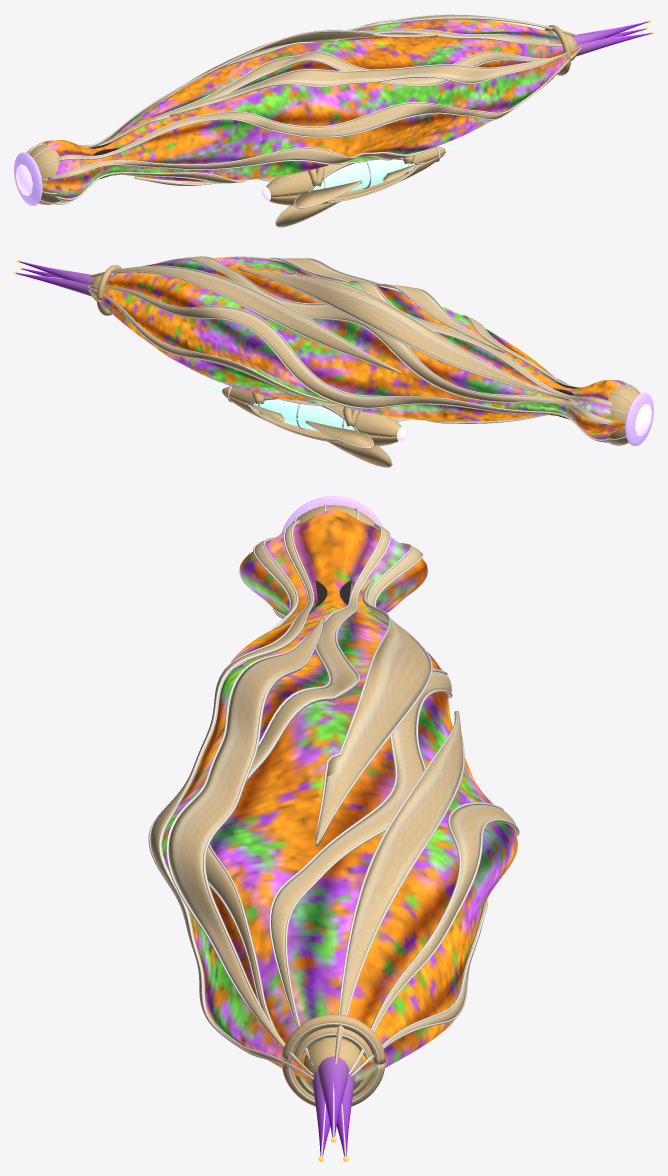
3 views of the same model, one above another, from view 1: azimuth 30°, elevation 25°; view 2: azimuth 150°, elevation 25°; view 3: azimuth 270°, elevation 25° (orthographic). The views are drawn at different scales.
Visible parts, largest first — view 1: I11_37; view 2: I11_37; view 3: I11_37.
Part boxes in pixels (x1,y1,x2,y2): I11_37: (14,14,653,227); I11_37: (14,256,653,467); I11_37: (148,496,519,1161).
Bounding box in the file's own units: 1 × 0.2754 × 0.2546.
Materials: 13 (2 with a texture image).
